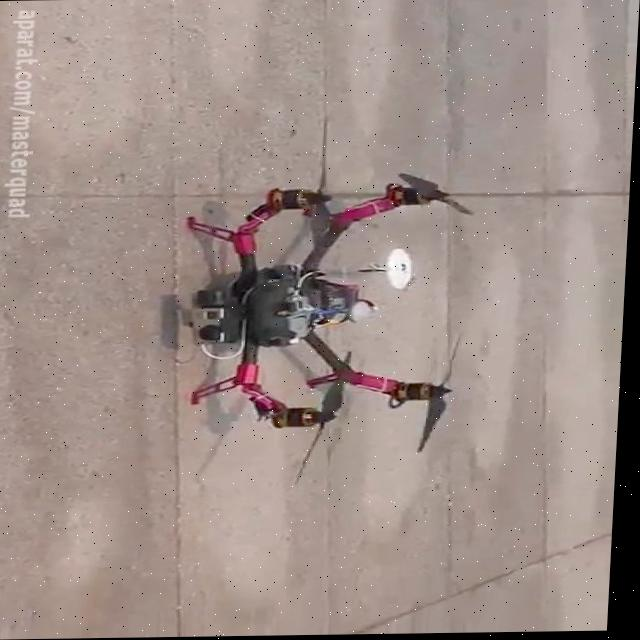drone: (174, 119, 487, 489)
